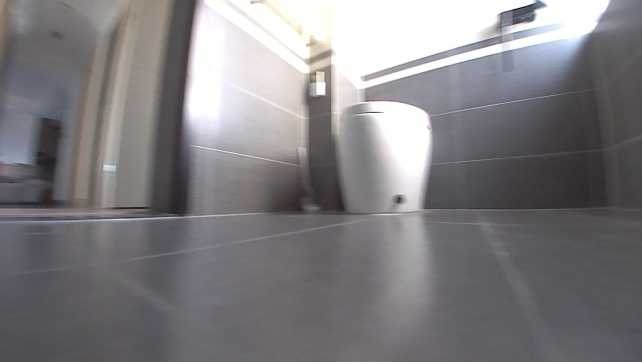door_sill: (0, 211, 174, 223)
toilet: (331, 97, 439, 215)
